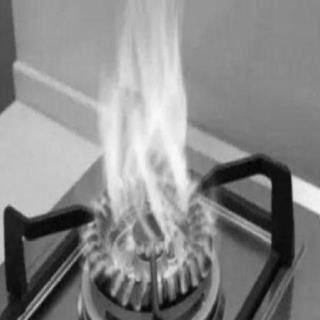Fire: (85, 0, 215, 296)
